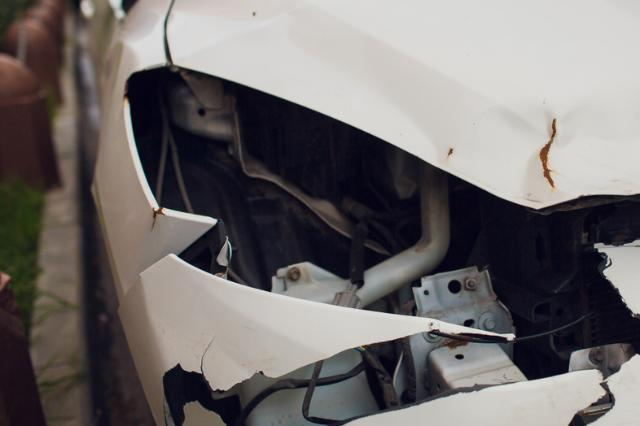Bonnet: (495, 90, 635, 179)
Bumper: (114, 264, 640, 426)
Fender: (116, 144, 173, 257)
Light: (142, 105, 540, 251)
